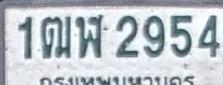1: (18, 16, 32, 59)
2: (115, 14, 138, 58)
4: (198, 14, 220, 57)
5: (170, 14, 192, 57)
9: (142, 15, 164, 57)
A18: (40, 15, 72, 58)
A42: (76, 14, 104, 58)
